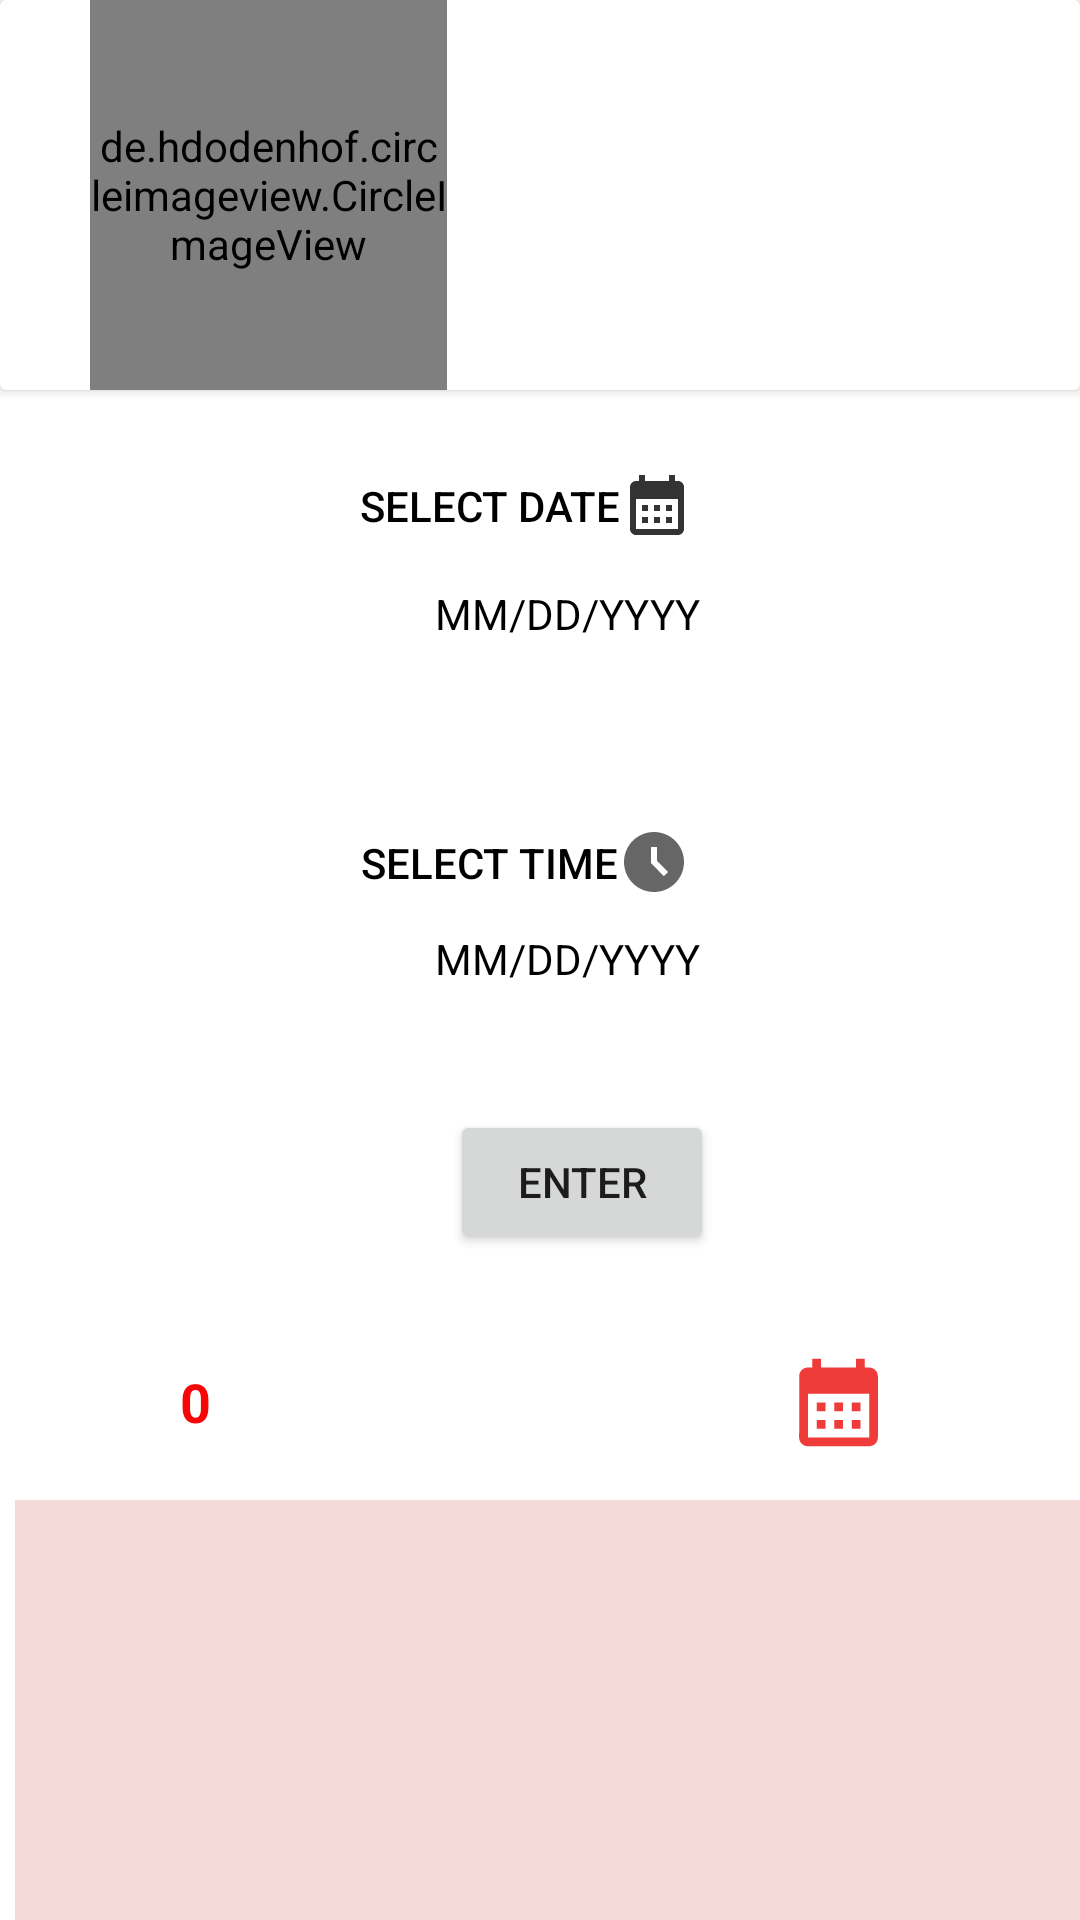

Icons on this 1080x1920 Android screen, each with its box as (x1, y1, x2, y2):
calender: (799, 1358, 878, 1447)
